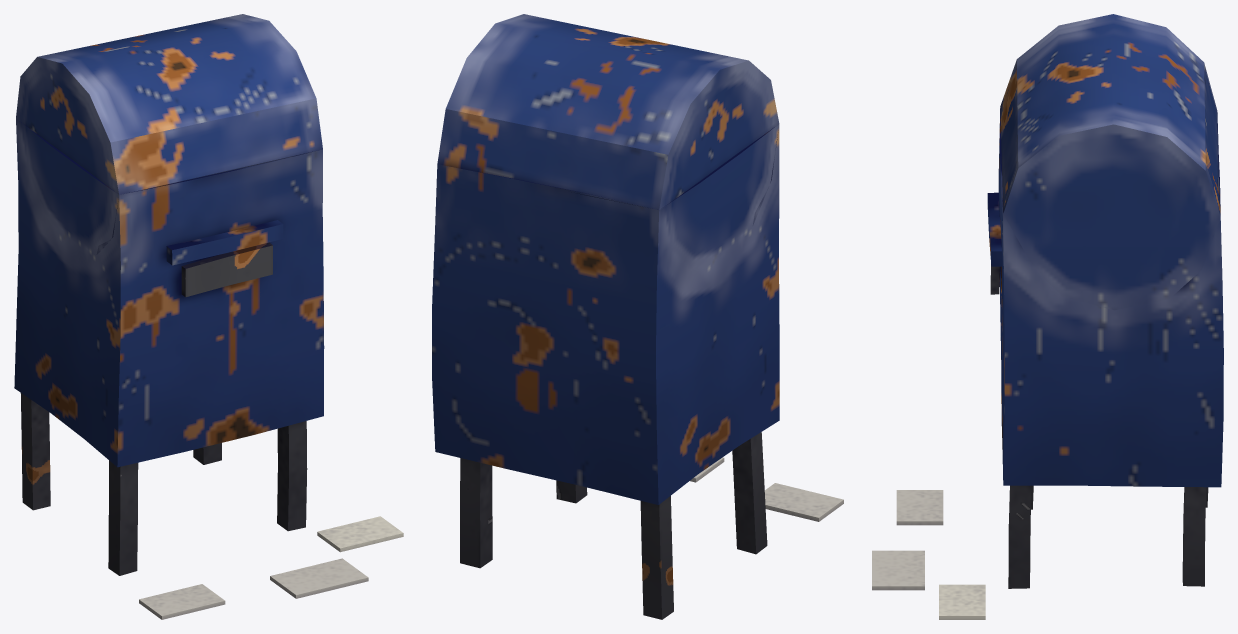
File: Mailbox.glb
The picture shows the model from 3 angles, left to right: view 1: azimuth 30°, elevation 25°; view 2: azimuth 150°, elevation 25°; view 3: azimuth 270°, elevation 25°; orthographic projection. The views are drawn at different scales.
Parts seen in each view (by area): view 1: Box, Legs, Letters; view 2: Box, Legs, Letters; view 3: Box, Letters, Legs.
Boxes of the visible parts, bbox=[...] form: Box: bbox=[14, 14, 324, 467]; Legs: bbox=[20, 242, 307, 575]; Letters: bbox=[139, 516, 403, 619]; Box: bbox=[432, 14, 779, 504]; Legs: bbox=[460, 432, 767, 619]; Letters: bbox=[690, 457, 843, 521]; Box: bbox=[987, 14, 1223, 487]; Letters: bbox=[872, 490, 985, 619]; Legs: bbox=[990, 264, 1208, 588].
Bounding box in the file's own units: 1.45 × 2.52 × 1.66.
3 materials, 3 textured.
